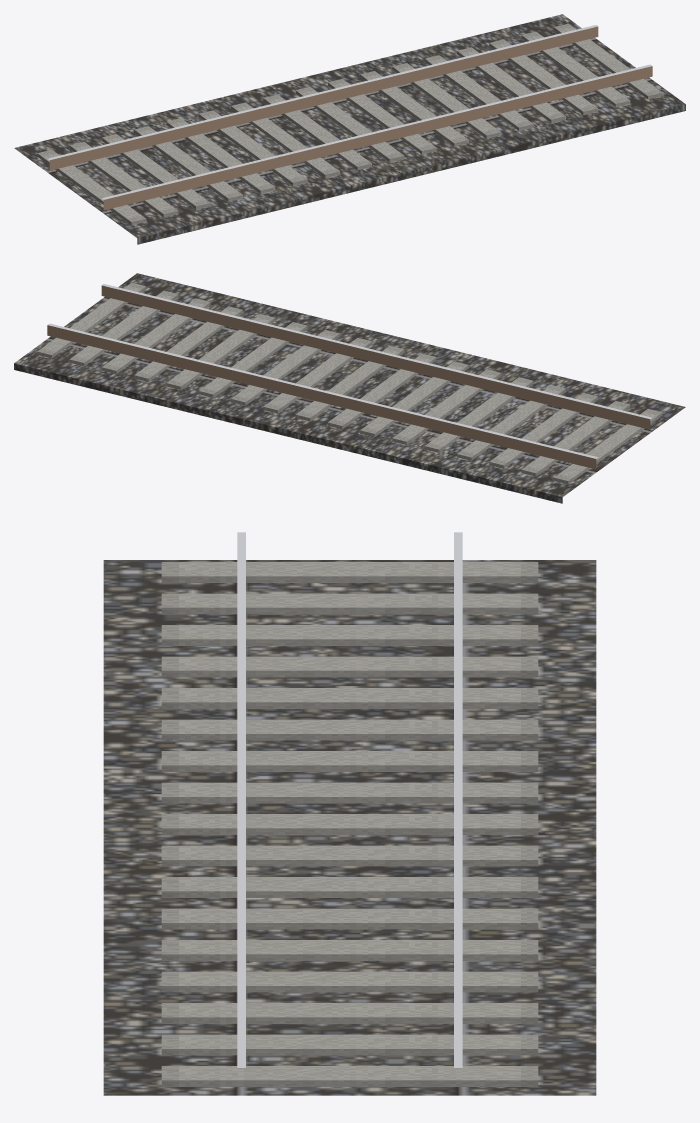
File: kolej_sikma_beton_siroka.glb
3 renders of one model, top to bottom at view 1: azimuth 30°, elevation 25°; view 2: azimuth 150°, elevation 25°; view 3: azimuth 270°, elevation 25°, orthographic. The views are drawn at different scales.
Visible parts, largest first — view 1: kolej_sikma_beton_siroka; view 2: kolej_sikma_beton_siroka; view 3: kolej_sikma_beton_siroka.
Boxes of the visible parts, bbox=[...] form: kolej_sikma_beton_siroka: bbox=[14, 14, 685, 244]; kolej_sikma_beton_siroka: bbox=[14, 273, 685, 503]; kolej_sikma_beton_siroka: bbox=[103, 532, 596, 1095].
Size of the model in its own units: 10.49 by 0.373 by 4.08.
Materials: 4 (2 with a texture image).
